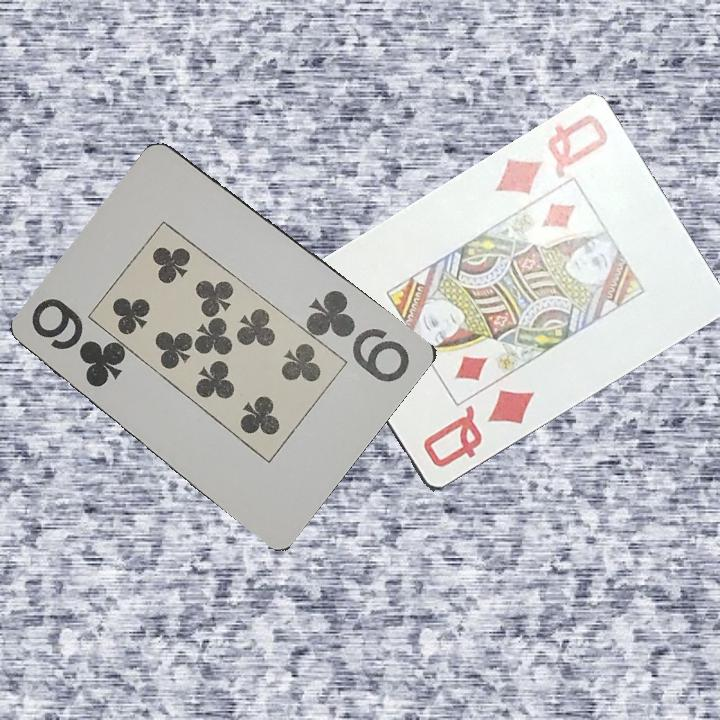9c: (303, 285, 414, 386), (28, 293, 128, 391)
Qd: (492, 111, 611, 199), (419, 386, 537, 471)
